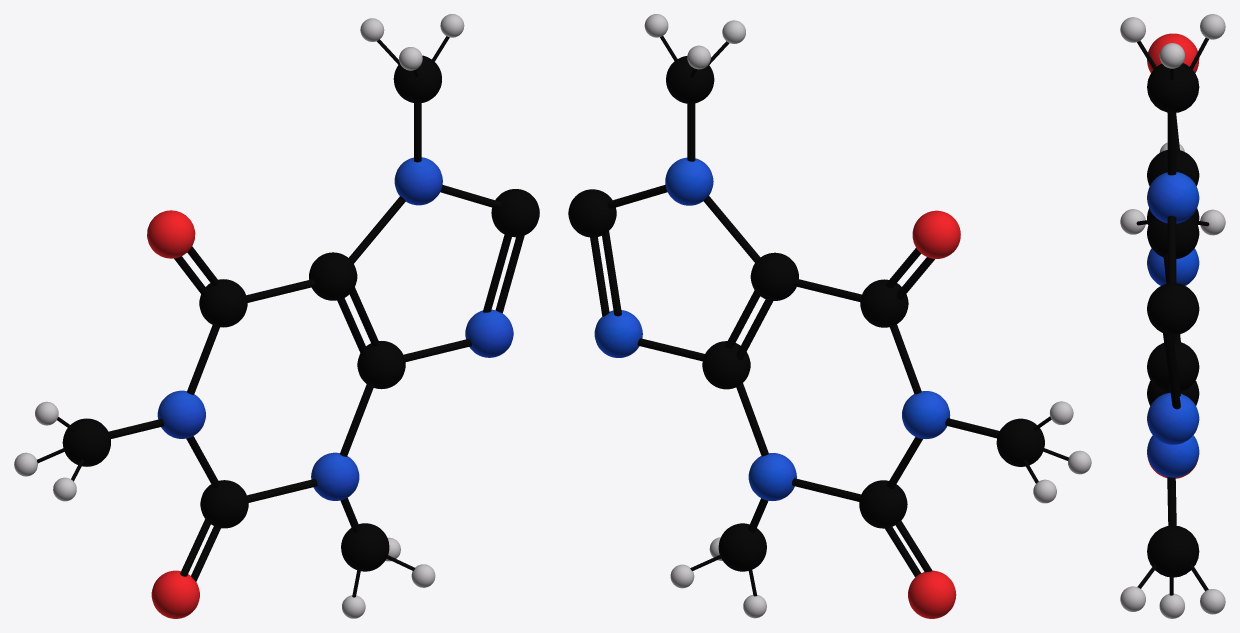
The picture shows the model from 3 angles, left to right: view 1: azimuth 30°, elevation 25°; view 2: azimuth 150°, elevation 25°; view 3: azimuth 270°, elevation 25°; orthographic projection. The views are drawn at different scales.
Visible parts, largest first — view 1: node_id98, node_id96, node_id138, node_id100, node_id88, node_id90, node_id106, node_id104, node_id94, node_id130, node_id102, node_id92 (+2 smaller); view 2: node_id98, node_id96, node_id138, node_id100, node_id90, node_id106, node_id94, node_id102, node_id130, node_id88, node_id104, node_id92 (+3 smaller); view 3: node_id102, node_id130, node_id100, node_id104, node_id114, node_id140, node_id94, node_id138, node_id90, node_id92, node_id98, node_id82 (+13 smaller).
Part boxes in pixels (bbox=[...]): node_id98: bbox=[147, 210, 195, 258]; node_id96: bbox=[151, 570, 199, 618]; node_id138: bbox=[309, 252, 357, 300]; node_id100: bbox=[394, 157, 442, 205]; node_id88: bbox=[200, 480, 248, 528]; node_id90: bbox=[157, 390, 205, 438]; node_id106: bbox=[62, 418, 110, 466]; node_id104: bbox=[465, 309, 513, 357]; node_id94: bbox=[311, 452, 359, 500]; node_id130: bbox=[341, 523, 389, 571]; node_id102: bbox=[491, 189, 539, 237]; node_id92: bbox=[199, 279, 247, 327]; node_id98: bbox=[912, 210, 960, 258]; node_id96: bbox=[908, 570, 956, 618]; node_id138: bbox=[750, 252, 798, 300]; node_id100: bbox=[665, 157, 713, 205]; node_id90: bbox=[902, 391, 950, 438]; node_id106: bbox=[996, 418, 1044, 466]; node_id94: bbox=[748, 453, 796, 500]; node_id102: bbox=[568, 189, 616, 237]; node_id130: bbox=[718, 523, 766, 571]; node_id88: bbox=[859, 480, 907, 528]; node_id104: bbox=[594, 310, 642, 357]; node_id92: bbox=[860, 279, 908, 327]; node_id102: bbox=[1147, 283, 1199, 334]; node_id130: bbox=[1147, 525, 1199, 577]; node_id100: bbox=[1147, 172, 1199, 223]; node_id104: bbox=[1147, 392, 1199, 444]; node_id114: bbox=[1147, 63, 1199, 113]; node_id140: bbox=[1147, 342, 1199, 392]; node_id94: bbox=[1147, 435, 1199, 477]; node_id138: bbox=[1147, 216, 1199, 258]; node_id90: bbox=[1147, 248, 1199, 285]; node_id92: bbox=[1147, 150, 1199, 185]; node_id98: bbox=[1147, 33, 1199, 72]; node_id82: bbox=[1163, 333, 1180, 409].
Bounding box in the file's own units: 0.462 × 0.5083 × 0.0775.
Materials: 58 (58 with a texture image).
